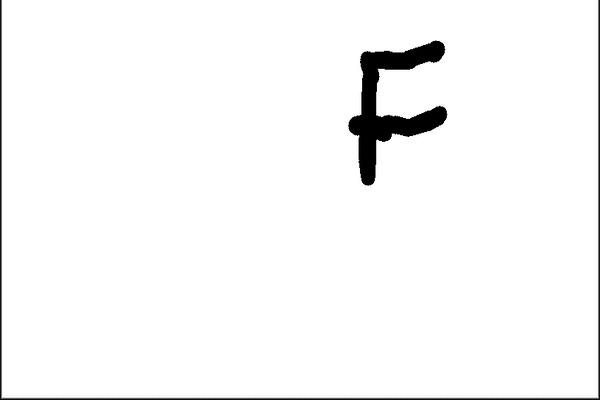F: (345, 37, 450, 189)
